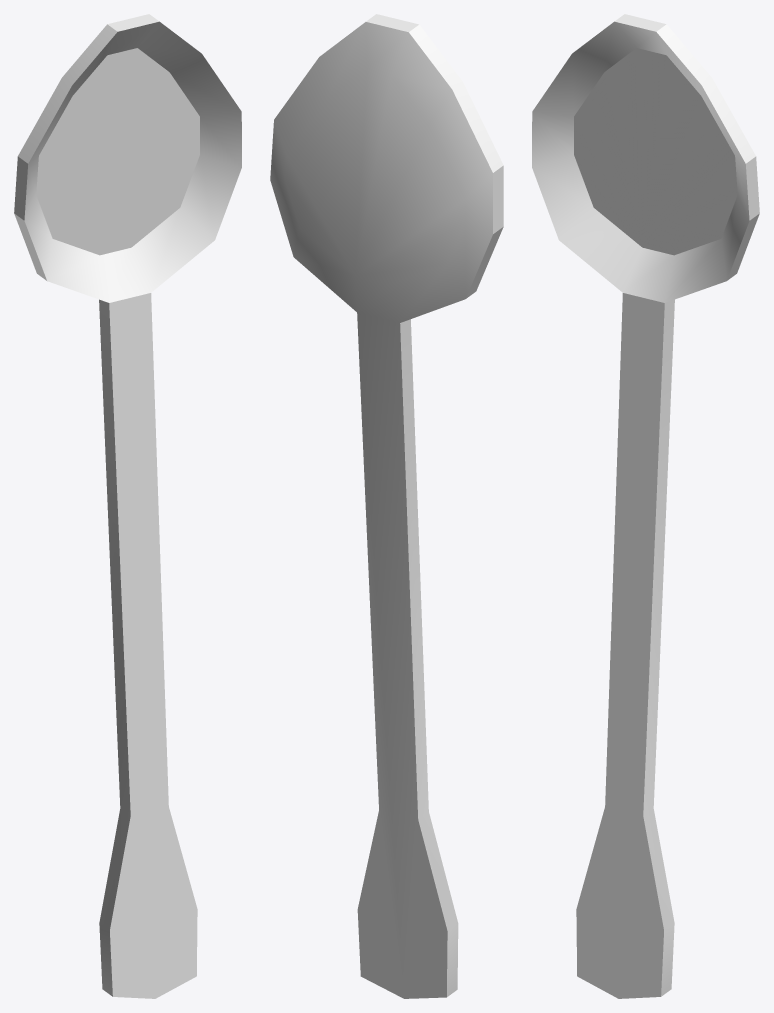
File: Sendok.fbx
The picture shows the model from 3 angles, left to right: view 1: azimuth 30°, elevation 25°; view 2: azimuth 150°, elevation 25°; view 3: azimuth 330°, elevation 25°; orthographic projection. The views are drawn at different scales.
Parts seen in each view (by area): view 1: Sendok; view 2: Sendok; view 3: Sendok.
Boxes of the visible parts, bbox=[...] form: Sendok: bbox=[14, 14, 241, 998]; Sendok: bbox=[270, 14, 503, 998]; Sendok: bbox=[532, 14, 759, 998].
Bounding box in the file's own units: 11.66 × 49.19 × 3.79.
